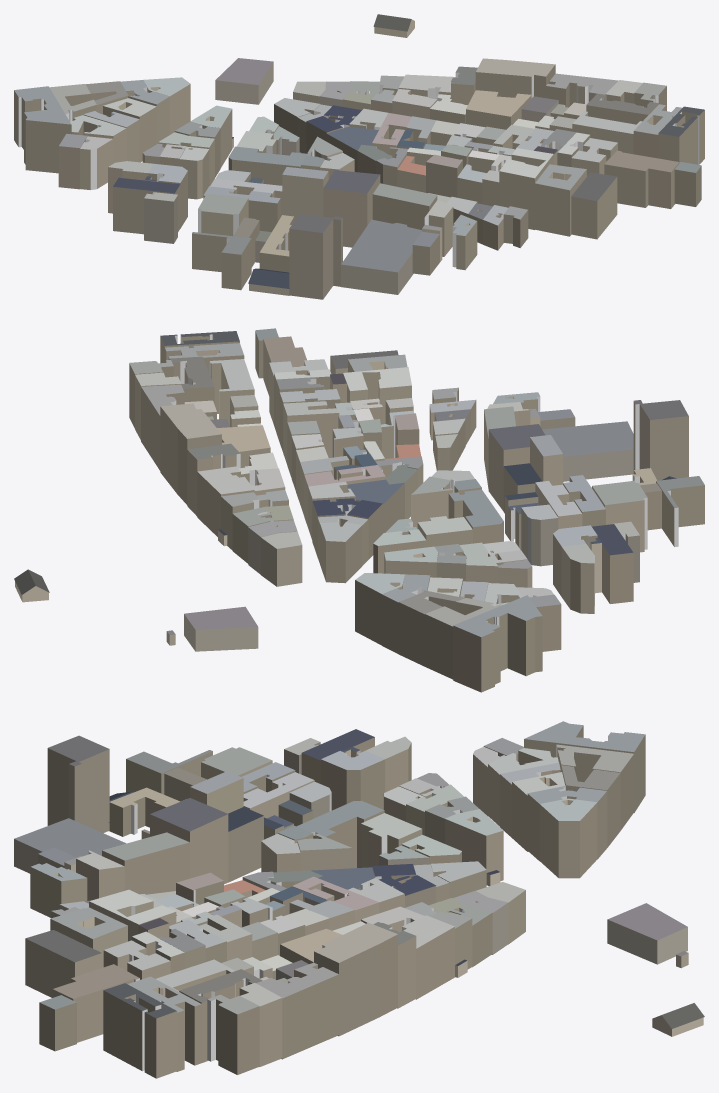
3 views of the same model, one above another, from view 1: azimuth 30°, elevation 25°; view 2: azimuth 150°, elevation 25°; view 3: azimuth 270°, elevation 25° (orthographic). The views are drawn at different scales.
Visible parts, largest first — view 1: tuile; view 2: tuile; view 3: tuile.
Boxes of the visible parts, bbox=[...] form: tuile: bbox=[14, 14, 704, 299]; tuile: bbox=[14, 328, 704, 692]; tuile: bbox=[14, 721, 704, 1078].
Bounding box in the file's own units: 268 × 39.76 × 256.
